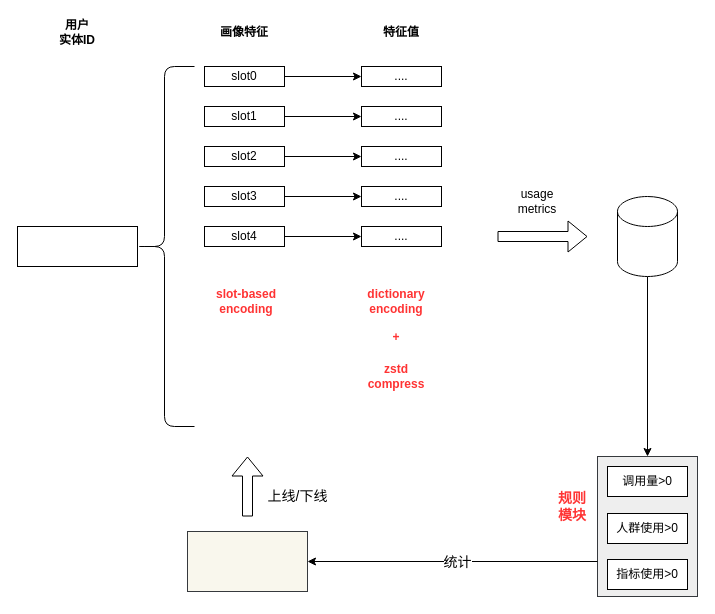
Image size: 715x614. Some labels were removed from this diagram. The shapes that lost their labels are listed below. From the top down, each one's box as (x1, y1, x2, y2) in pixels, then its label:
(16, 226, 138, 266): 实体ID
(616, 196, 678, 276): statistic store
(186, 530, 308, 592): Writer
